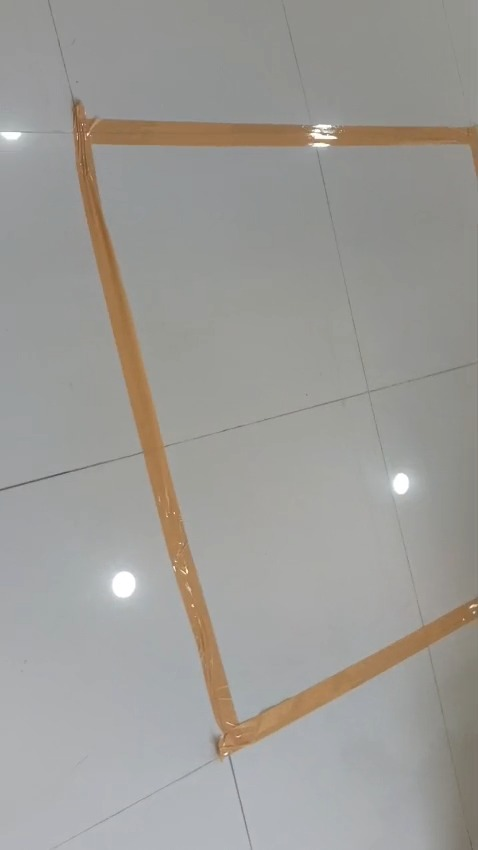floor marking: (74, 102, 477, 756)
